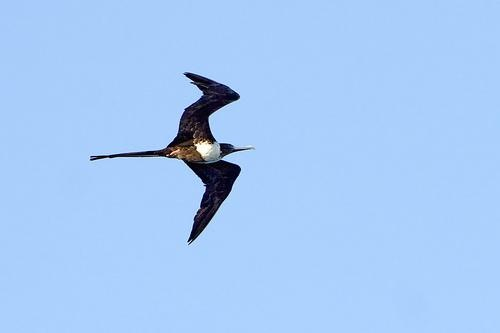bird: (83, 70, 261, 245)
